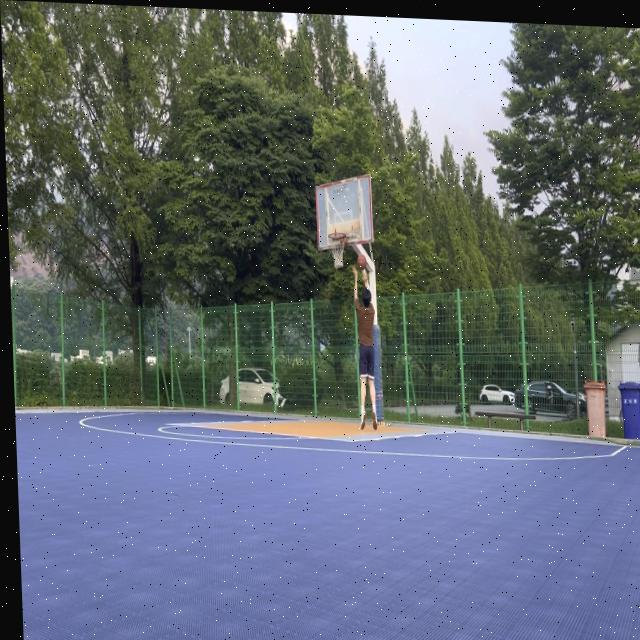basketball: (357, 253, 367, 271)
hoop: (328, 231, 347, 270)
